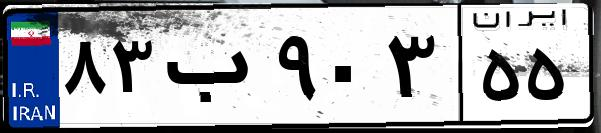0: (330, 28, 385, 110)
3: (385, 28, 445, 110), (110, 28, 158, 98)
5: (475, 38, 525, 113), (525, 38, 570, 115)
8: (57, 26, 110, 100)
9: (270, 28, 330, 110)
ب: (158, 20, 270, 120)
